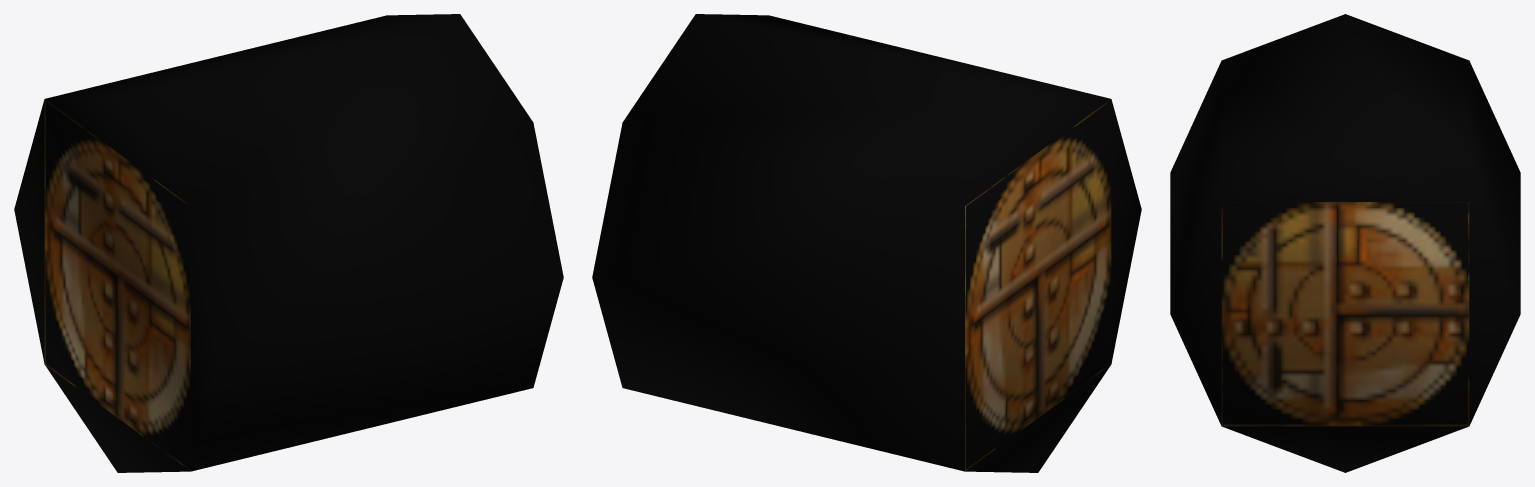
File: WheelRearR.obj
3 renders of one model, left to right at view 1: azimuth 30°, elevation 25°; view 2: azimuth 150°, elevation 25°; view 3: azimuth 270°, elevation 25°, orthographic. The views are drawn at different scales.
Parts seen in each view (by area): view 1: WheelRearR; view 2: WheelRearR; view 3: WheelRearR.
Boxes of the visible parts, bbox=[...] form: WheelRearR: bbox=[14, 14, 563, 472]; WheelRearR: bbox=[592, 14, 1141, 472]; WheelRearR: bbox=[1170, 14, 1520, 472].
Size of the model in its own units: 0.8399 by 0.8799 by 0.8799.
Materials: 2 (1 with a texture image).
